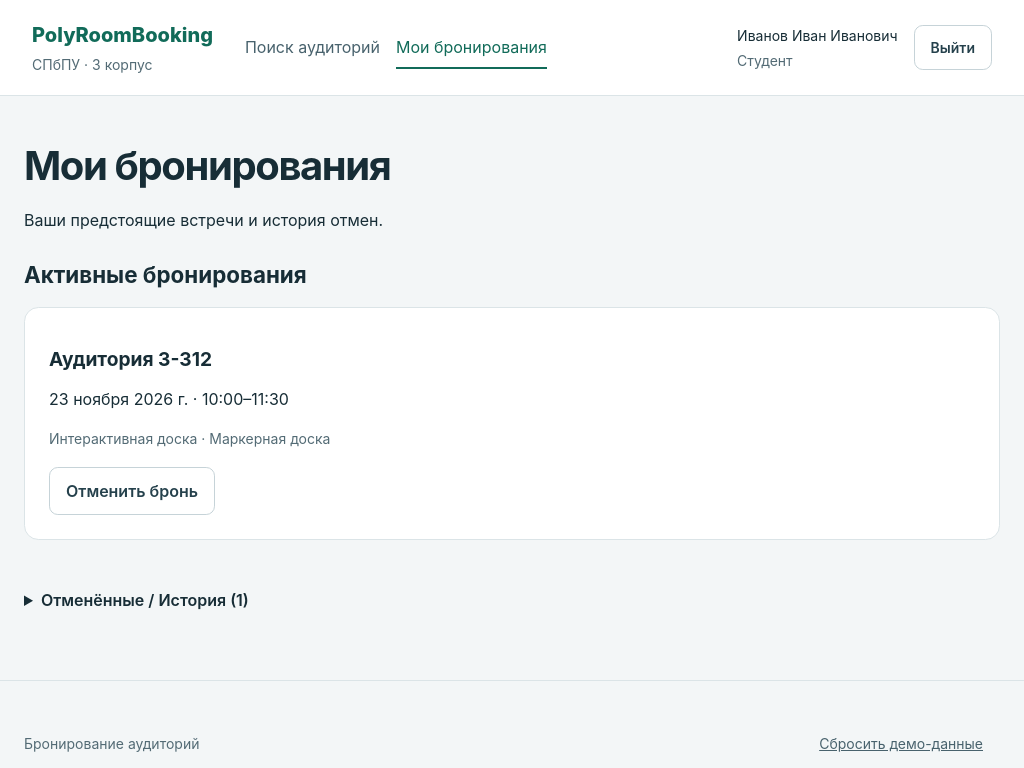
Scenario: PART 2: маршруты и авторизация › логотип ведёт на поиск из раздела «Мои бронирования»
Expected: the heading "Мои бронирования" is shown, [24,141,390,190]
Click the link "PolyRoomBooking СПбПУ · 3 корпус". click: (122,48)
box: [32,20,213,75]
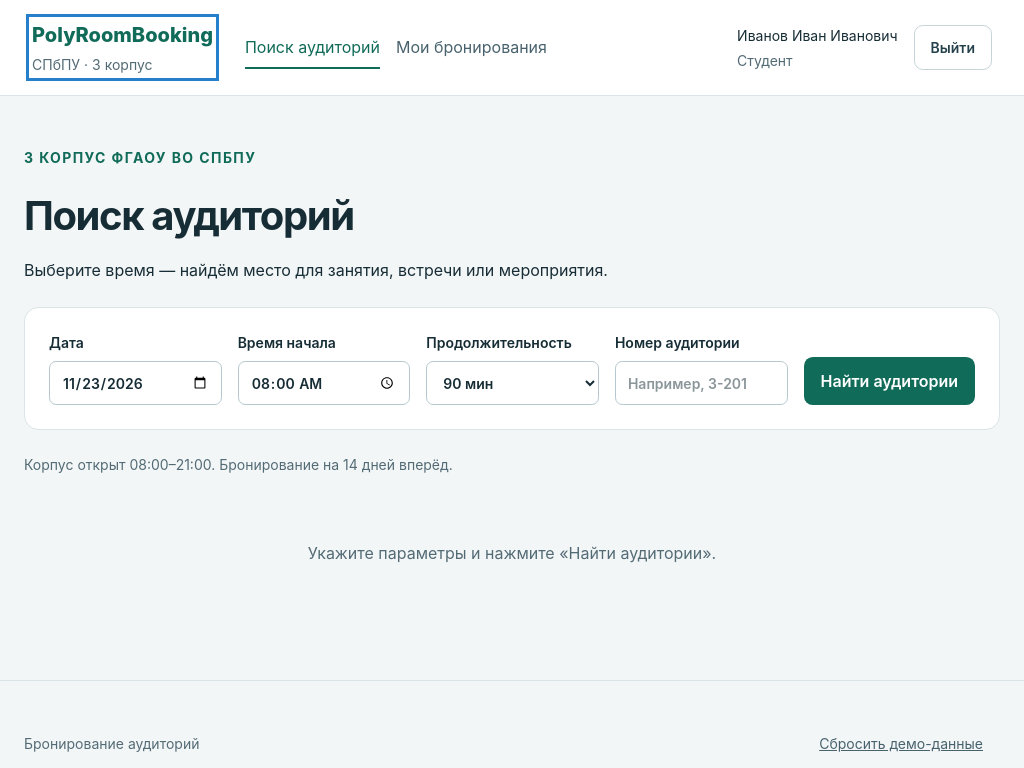
Now the heading "Поиск аудиторий" is shown, box [24,191,354,240]
